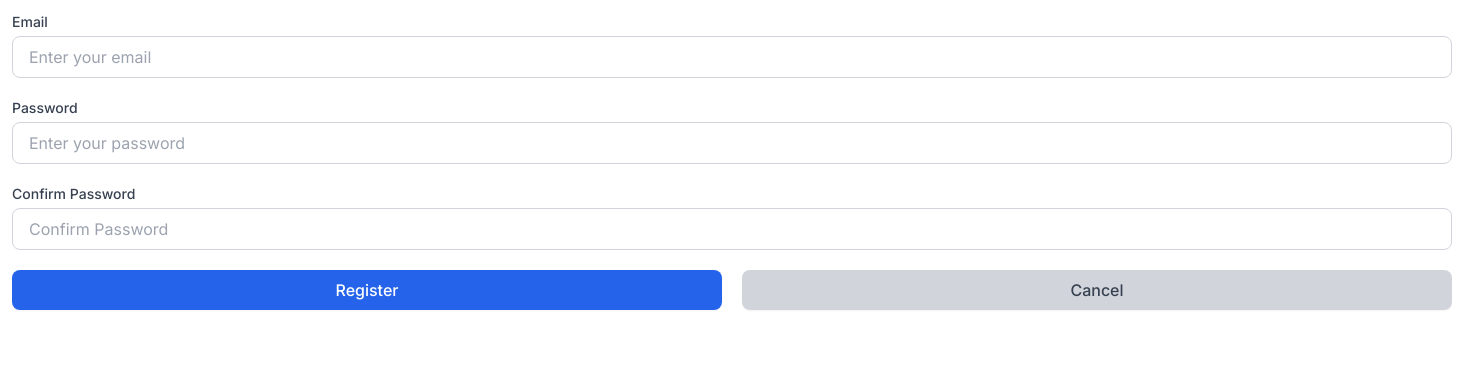
Test: RegisterForm › show error if password is too short
The width and height of the screenshot is (1464, 387).
Type "123" into the password field with placeholder "Enter your password" at (732, 143), box [12,122,1452,164]
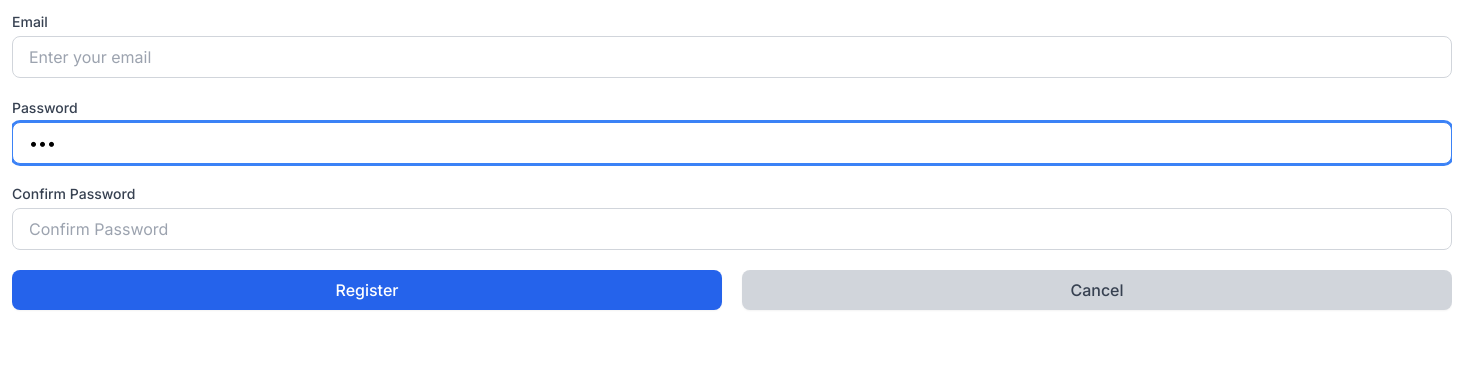
Submit the form named "register form"
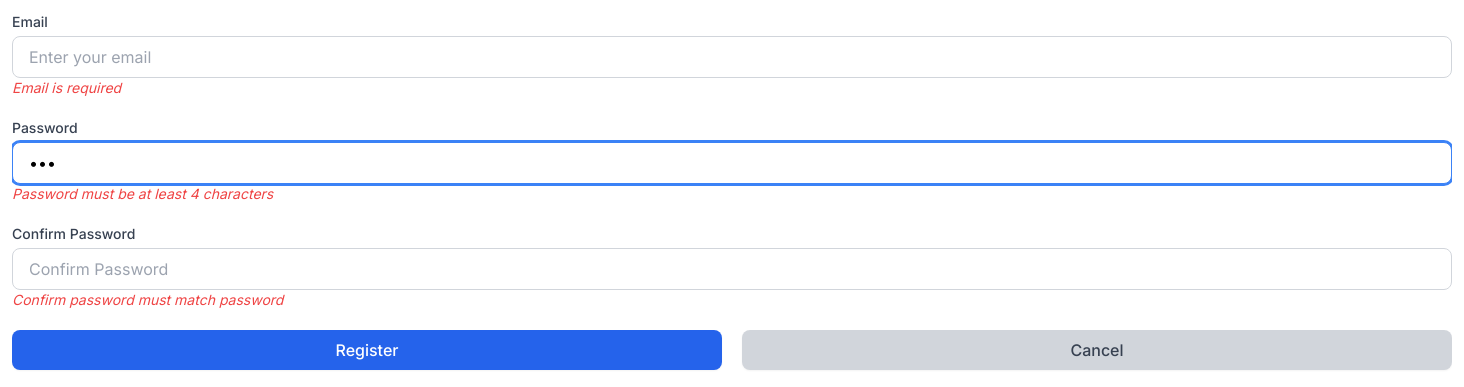
Result: the text "Password must be at least 4 characters" is shown at [12,185,273,202]
